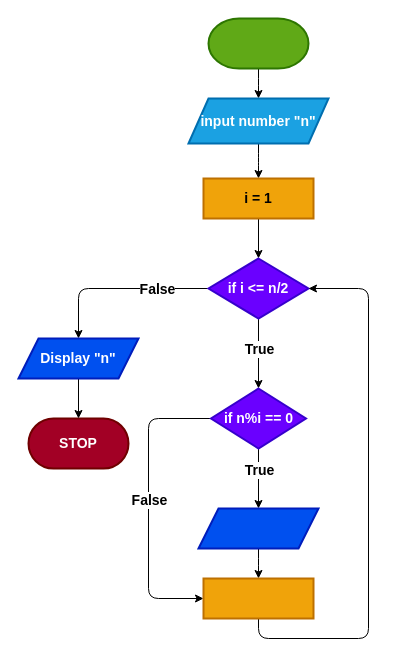
The diagram is 394 pixels wide and 664 high, and some of its shapes have lost their labels. The centre of each missing label's shape, as x and y in pixels:
Display "i": the point at 258,528
i = i + 1: the point at 258,598
START: the point at 258,43
